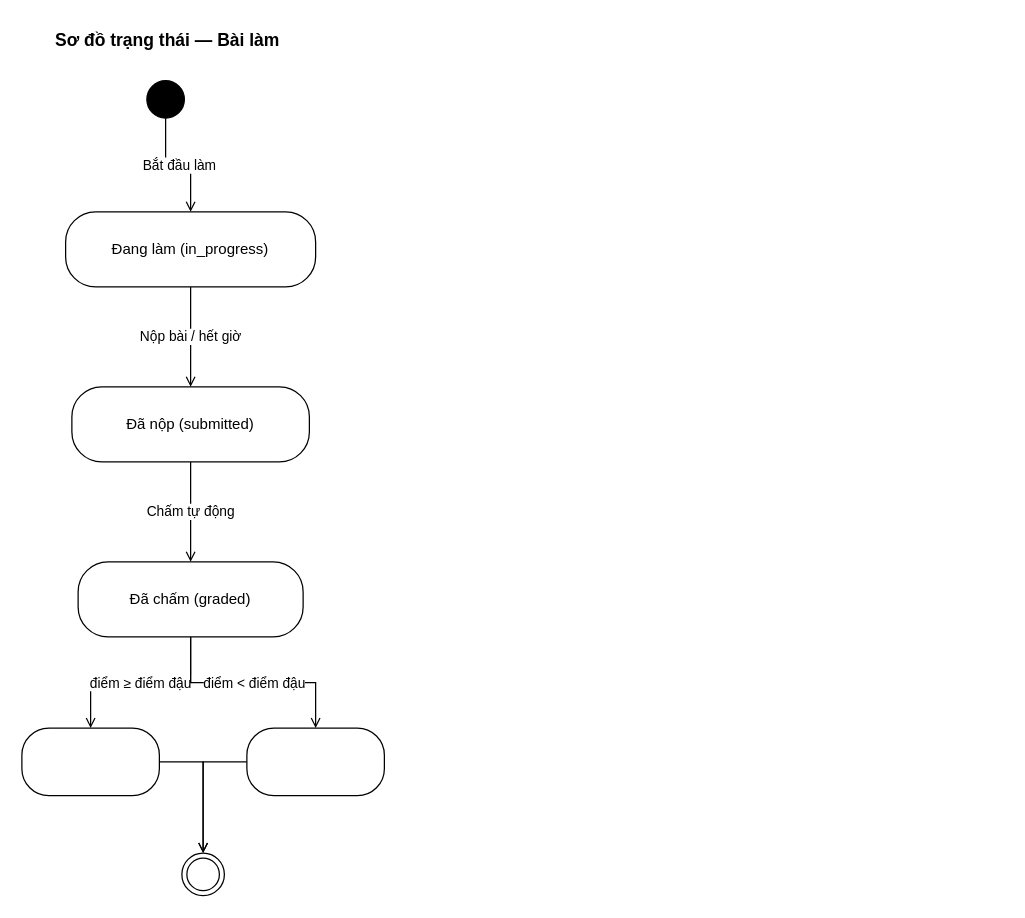
The diagram is 1025 pixels wide and 918 high, and some of its shapes have lost their labels. Each missing label, with the centre of its shape:
Rớt: point 315,761
Đậu: point 90,761
